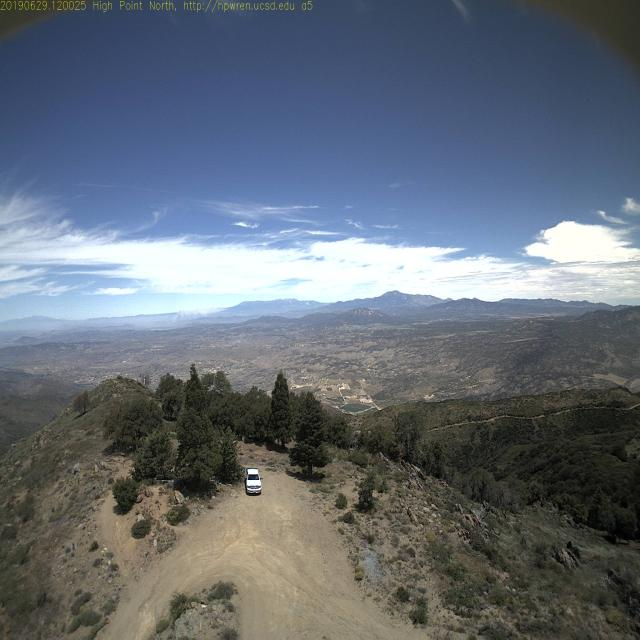smoke: (169, 300, 228, 327)
